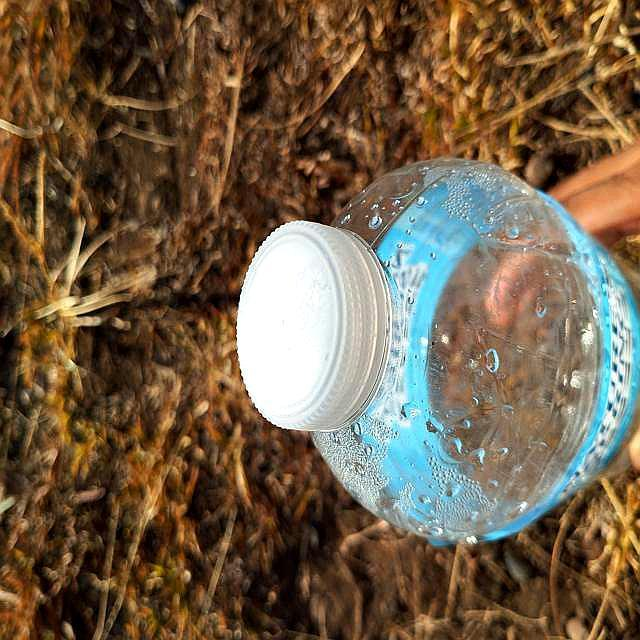Non-biodegradable: (235, 154, 639, 548)
